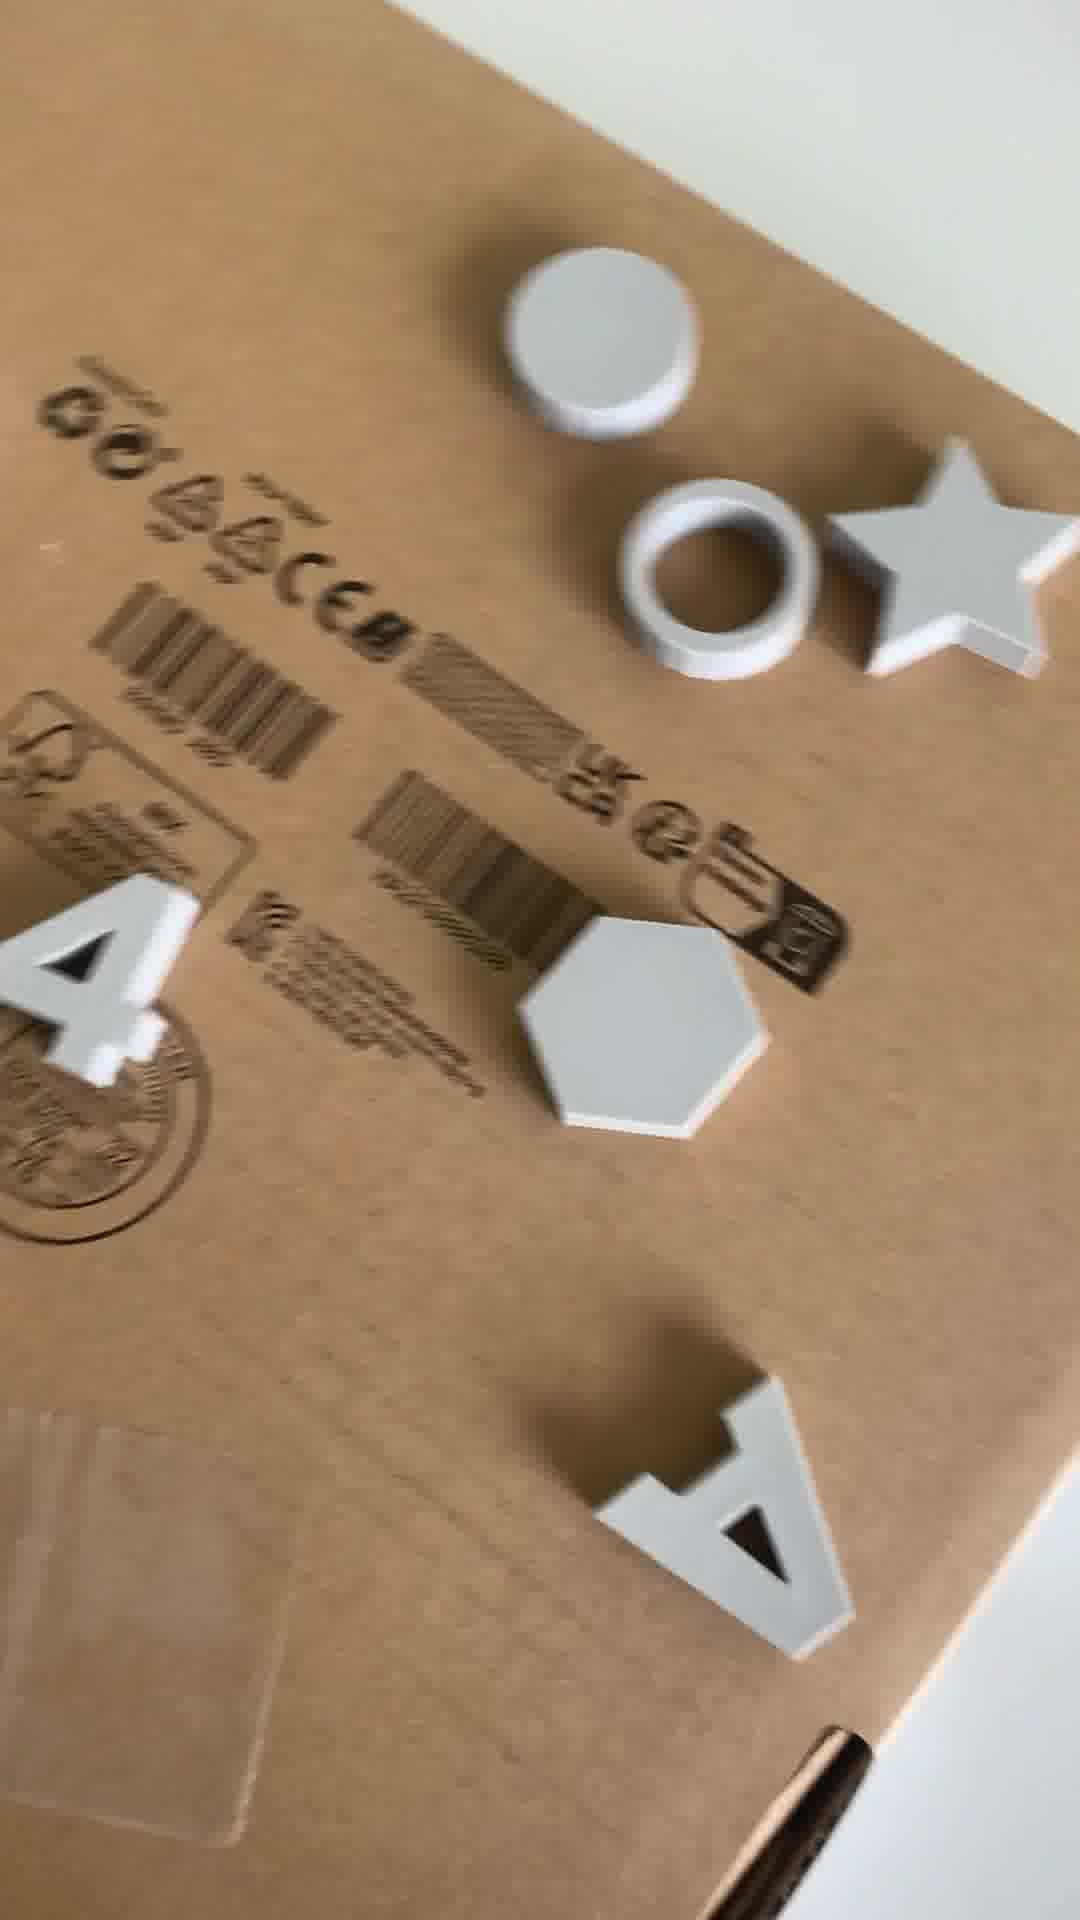Gray A-letter: (578, 1377, 894, 1663)
Gray circle: (509, 243, 692, 442)
Gray four: (1, 861, 219, 1112)
Gray hexagon: (513, 911, 777, 1153)
Gray ring: (604, 479, 822, 684)
Gray star: (845, 438, 1080, 680)
